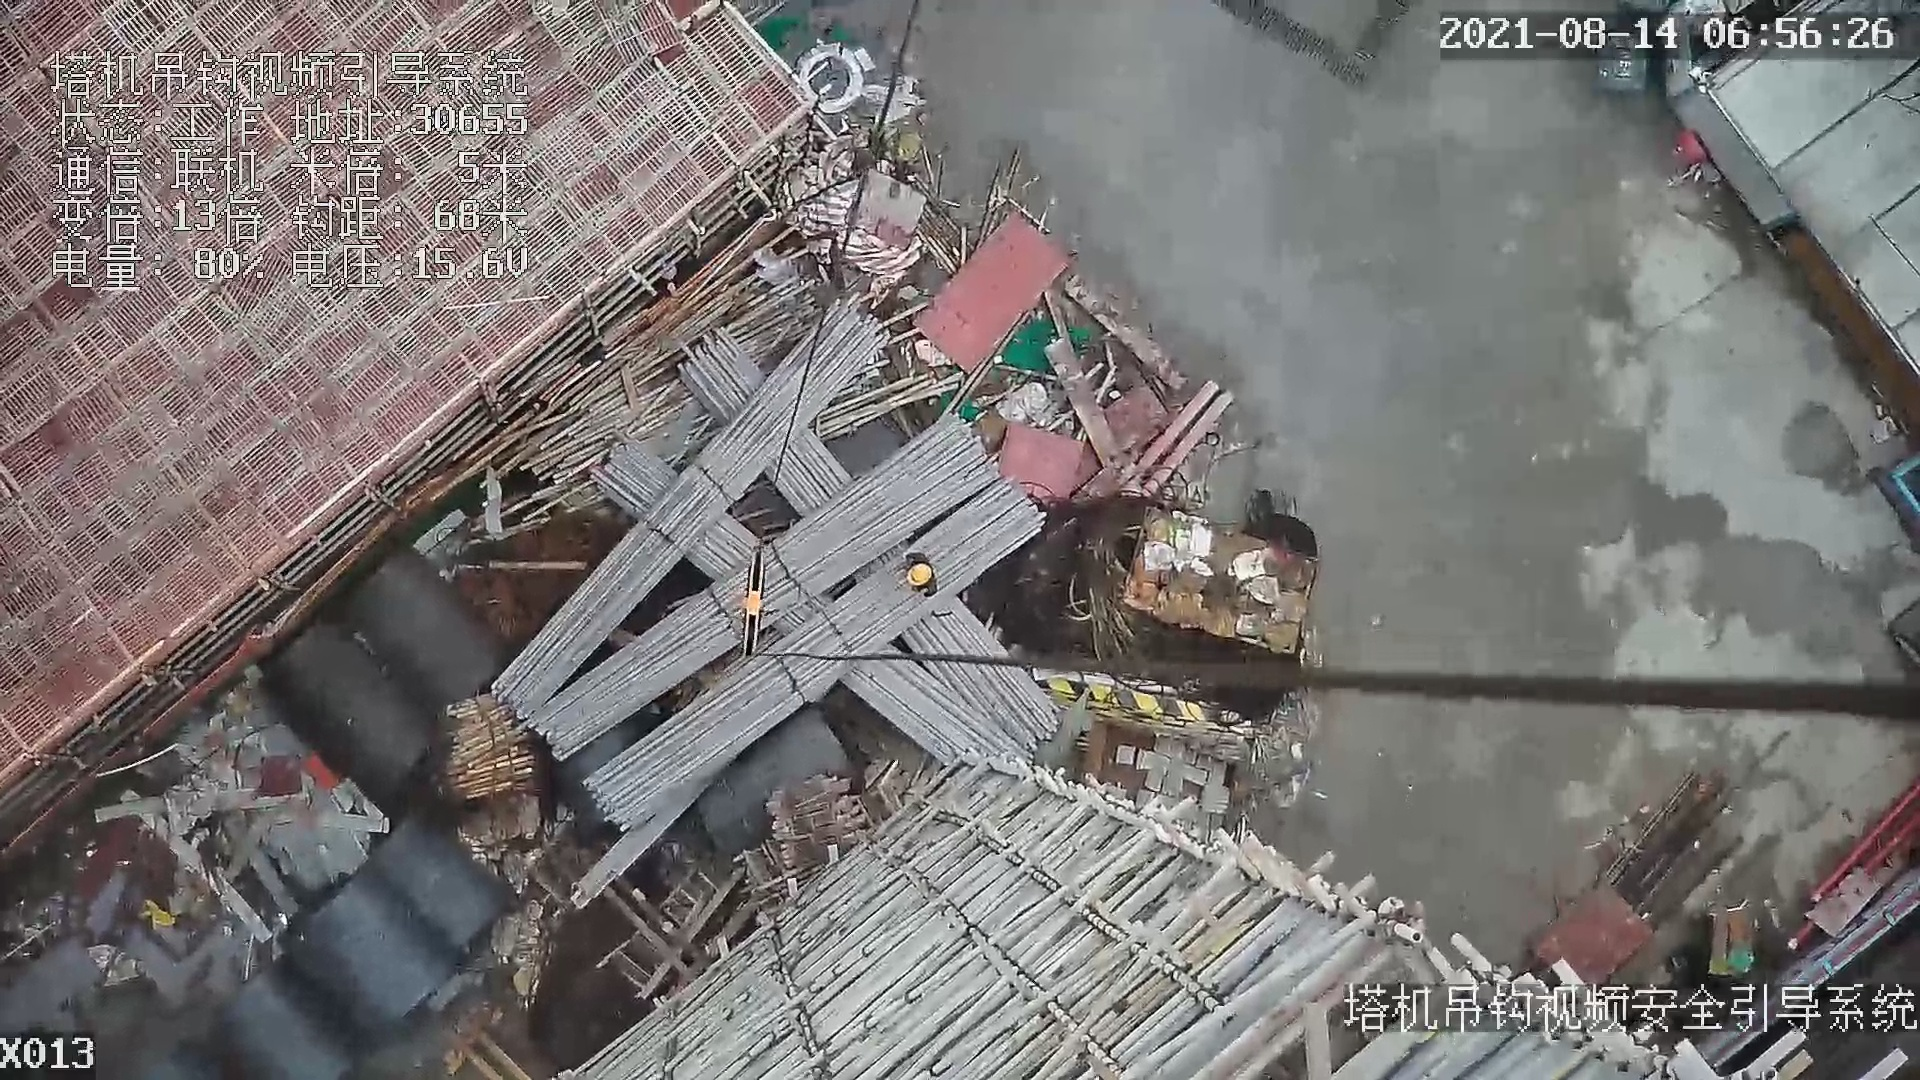helmet: (908, 563, 931, 585)
hook: (740, 545, 774, 656)
person: (906, 554, 949, 604)
rebar: (493, 302, 891, 720), (581, 480, 1044, 831), (529, 415, 1000, 760), (843, 645, 1034, 770), (902, 602, 1061, 748)
wood: (450, 709, 533, 802)
